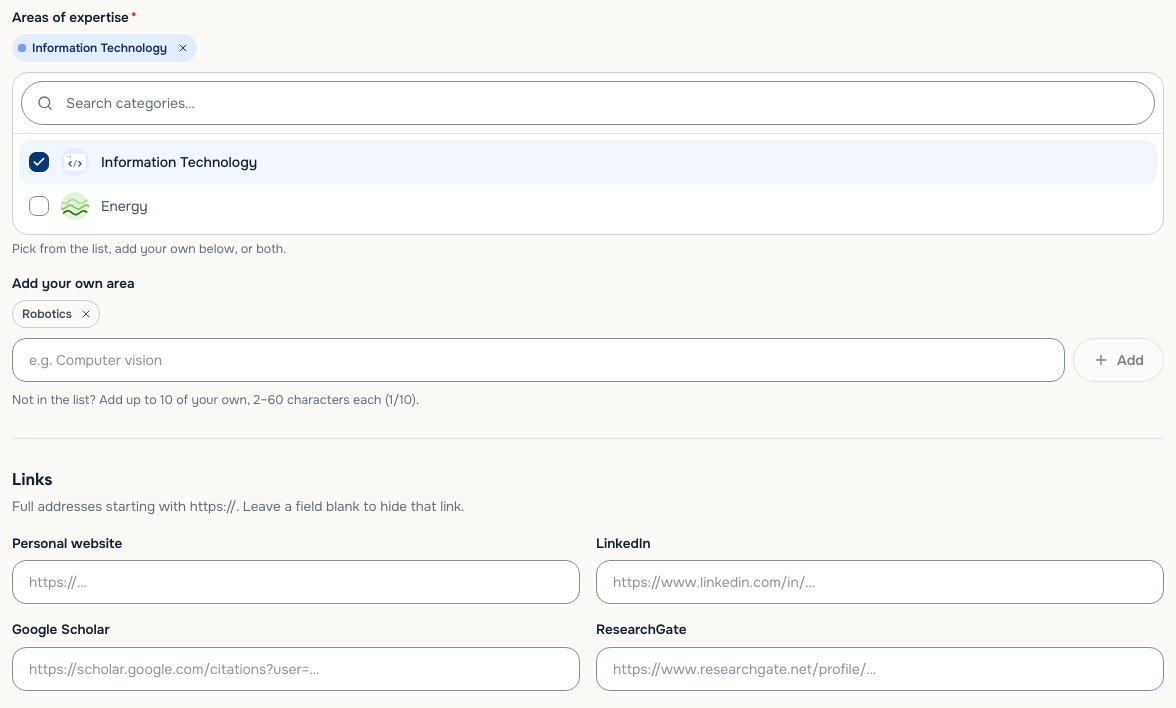
Scenario: ExpertProfileForm — own areas of expertise › says why an area can't be added: a picked category's name, a duplicate
(page scrolled)
Type "information technology" into the field labelled "Add your own area" at (538, 360), box [12,338,1065,382]
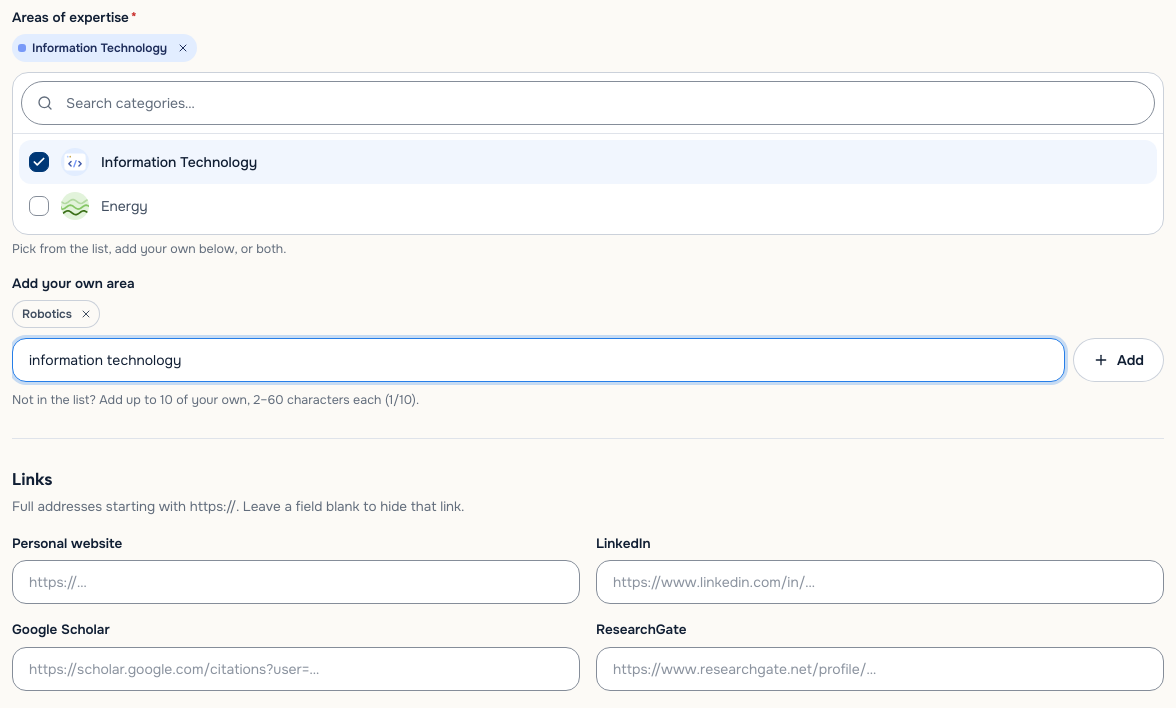
Click the button "Add" at (1118, 360), box [1073,338,1164,382]
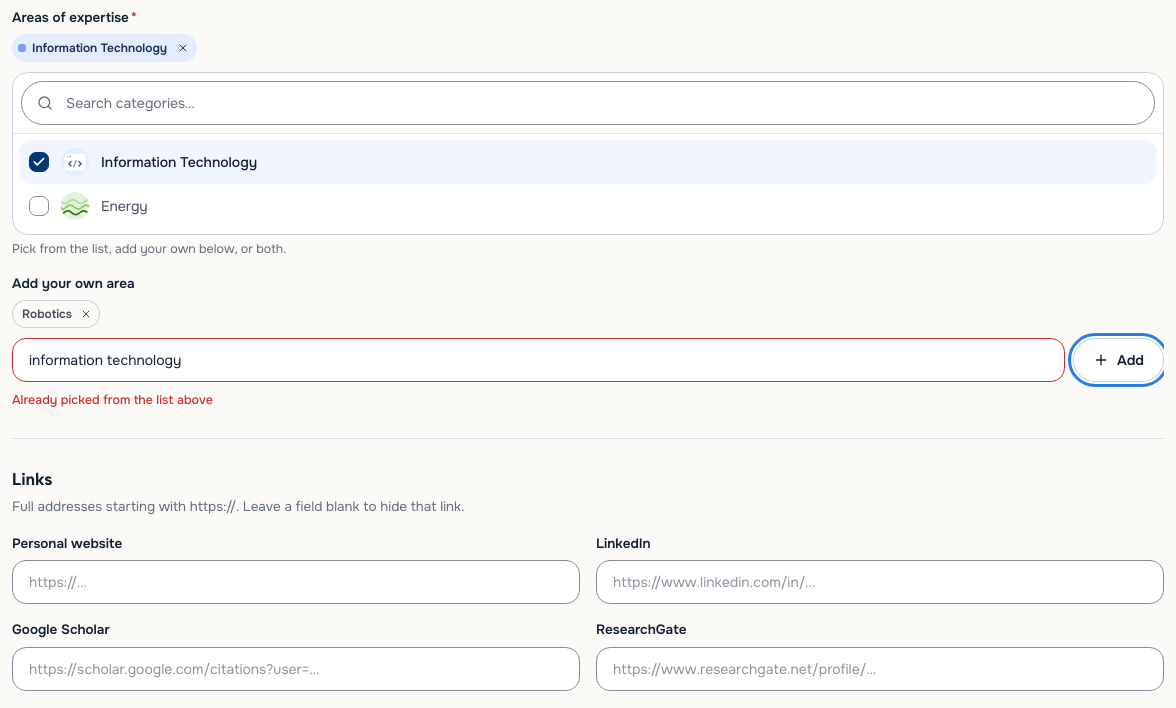
Expected: the text "Already picked from the list above" is shown, [12,392,213,408]
Replace the text in the field labelled "Add your own area" with "ROBOTICS" at (538, 360), box [12,338,1065,382]
Then press Enter
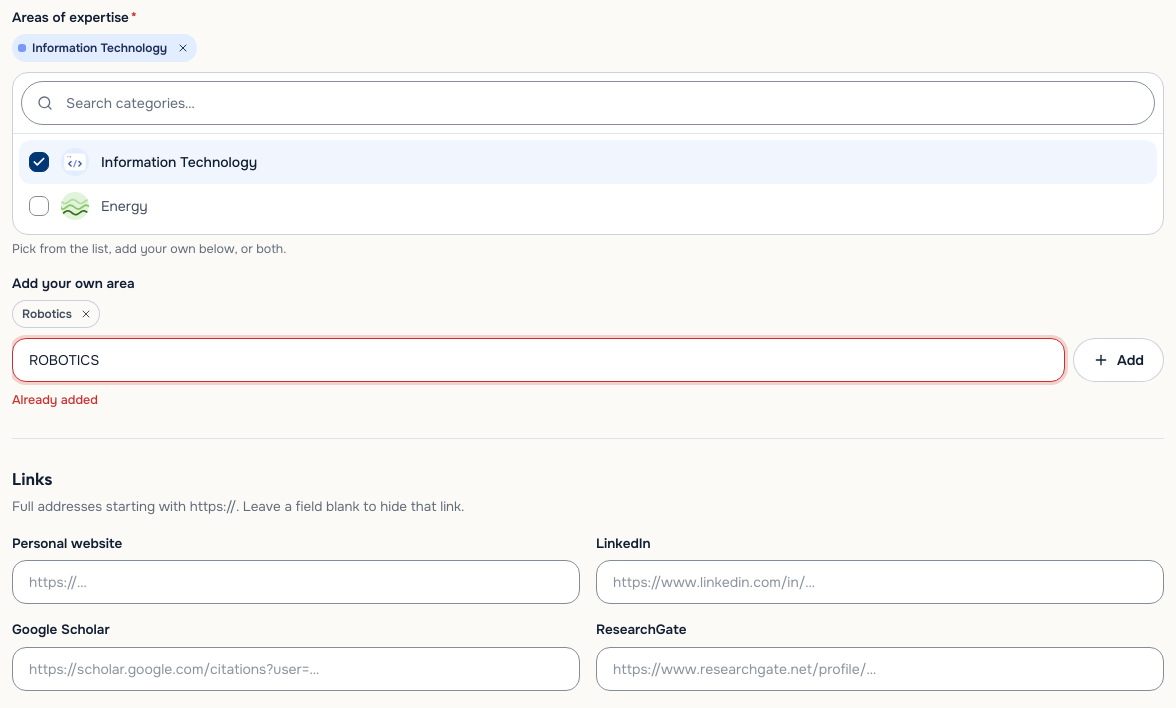
Expected: the number of list items is 1, [12,300,100,328]
Expected: the text "Already added" is shown, [12,392,98,408]
